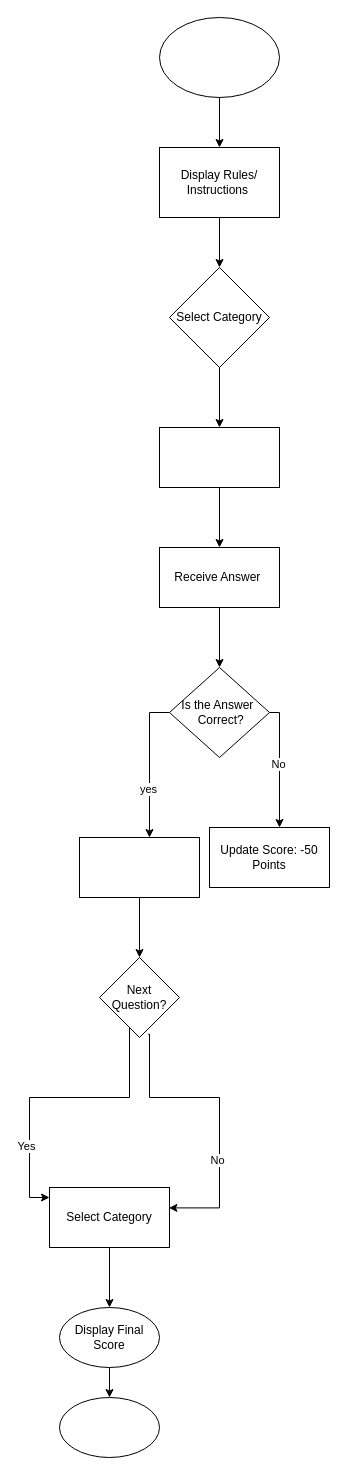
Image size: 347x1475. Some labels were removed from this diagram. The centre of each missing label's shape, as x and y in pixels:
Ask Question: point 219,457
End: point 109,1427
Start: point 219,57
Update Score: +100 Points: point 139,867
